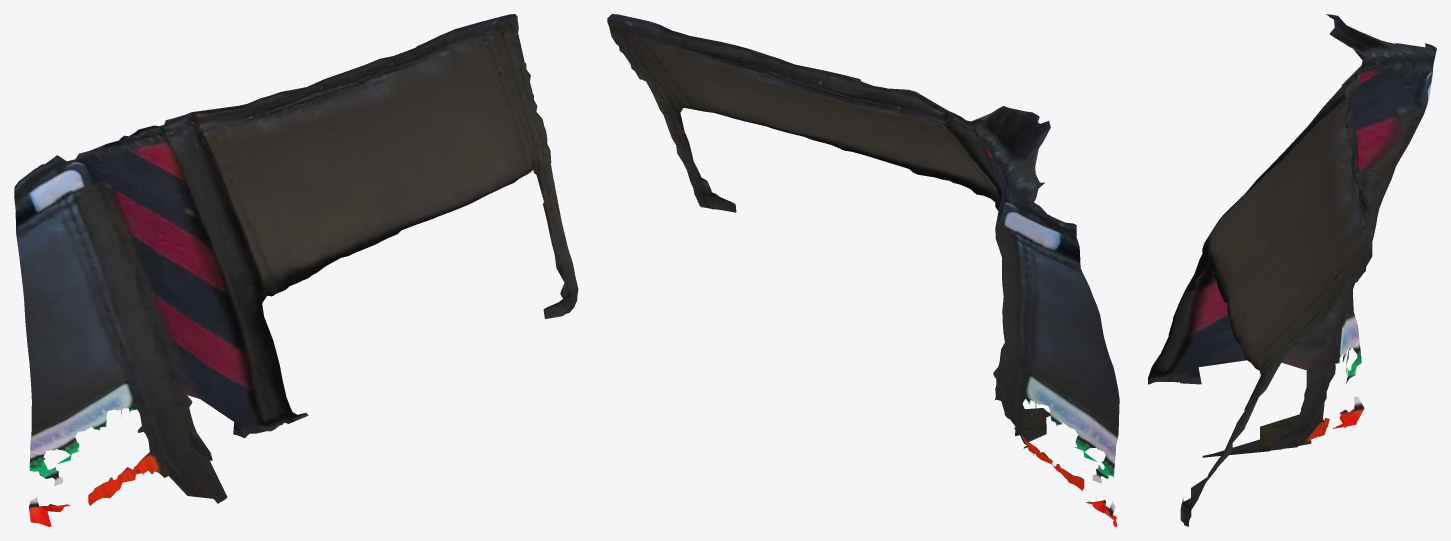
Rendered from observed-surface.glb.
3 renders of one model, left to right at view 1: azimuth 30°, elevation 25°; view 2: azimuth 150°, elevation 25°; view 3: azimuth 270°, elevation 25°, orthographic. The views are drawn at different scales.
Visible parts, largest first — view 1: geometry_0; view 2: geometry_0; view 3: geometry_0.
Boxes of the visible parts, x1,y1,x2,y2 form: geometry_0: (14, 14, 578, 526); geometry_0: (607, 14, 1119, 526); geometry_0: (1148, 14, 1436, 526).
Size of the model in its own units: 0.5557 by 0.4165 by 0.2276.
Materials: 1 (1 with a texture image).
